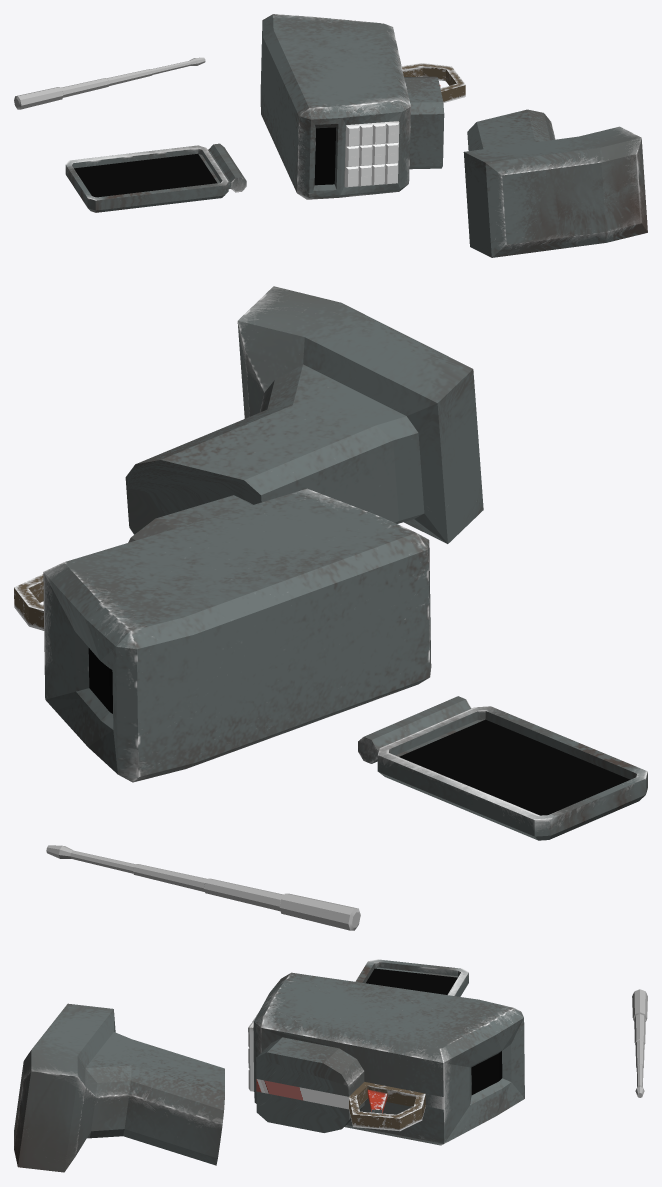
The model's file is PVTM_Broken.fbx.
The picture shows the model from 3 angles, top to bottom: view 1: azimuth 30°, elevation 25°; view 2: azimuth 150°, elevation 25°; view 3: azimuth 270°, elevation 25°; orthographic projection. The views are drawn at different scales.
Parts seen in each view (by area): view 1: polySurface4, polySurface1, polySurface3, Cylinder; view 2: polySurface4, polySurface1, polySurface3, Cylinder; view 3: polySurface4, polySurface1, polySurface3, Cylinder.
Boxes of the visible parts, box(x1,y1,x2,y2) form: polySurface4: box(260, 14, 465, 199); polySurface1: box(463, 109, 647, 257); polySurface3: box(65, 143, 246, 212); Cylinder: box(14, 57, 205, 109); polySurface4: box(14, 488, 431, 782); polySurface1: box(125, 286, 483, 543); polySurface3: box(358, 696, 647, 840); Cylinder: box(46, 845, 360, 930); polySurface4: box(248, 972, 524, 1145); polySurface1: box(14, 1003, 224, 1172); polySurface3: box(355, 959, 468, 996); Cylinder: box(632, 989, 647, 1097).
Bounding box in the file's own units: 10.14 × 2.55 × 13.45.
